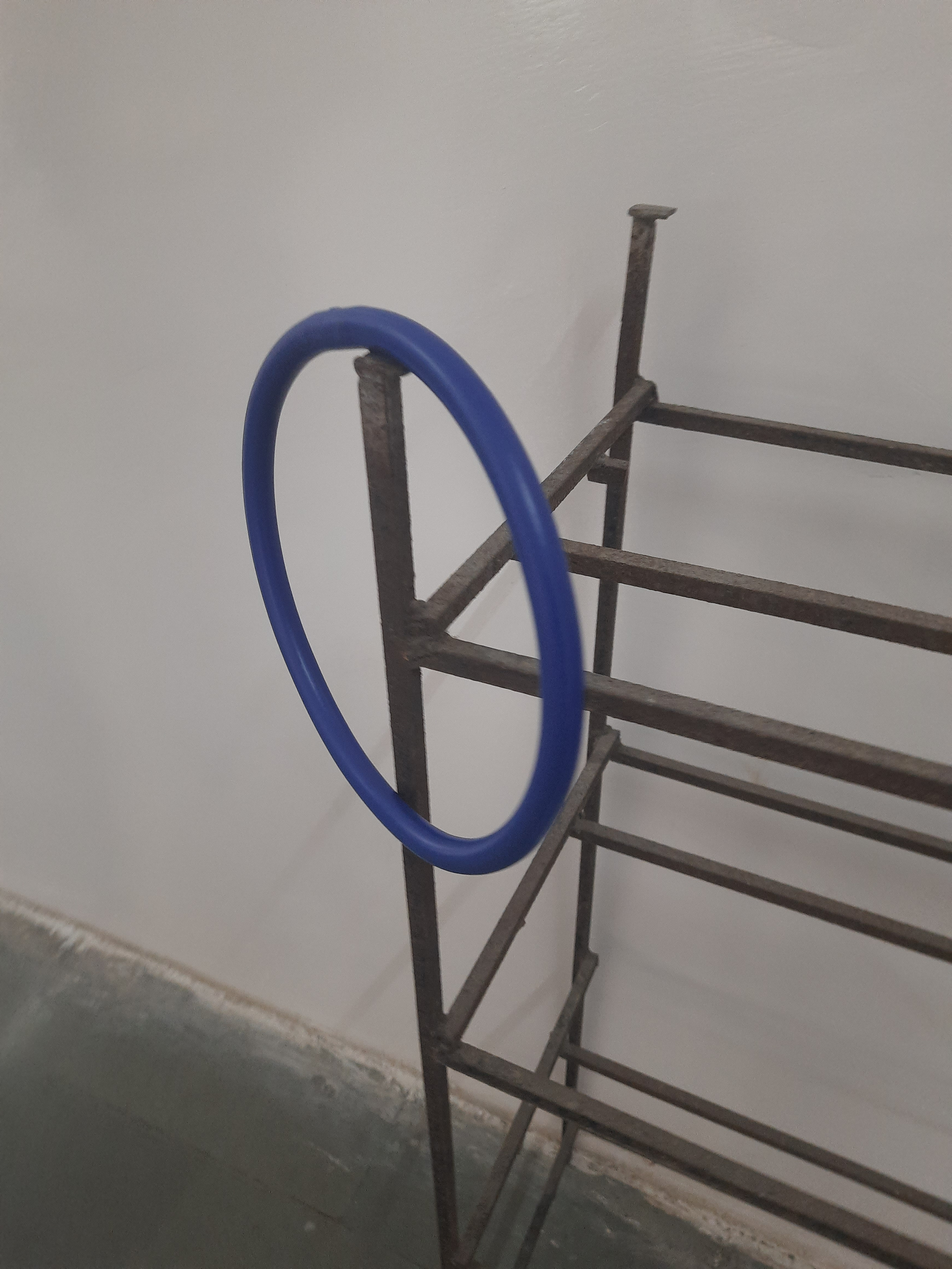Blue ring: (238, 302, 582, 880)
